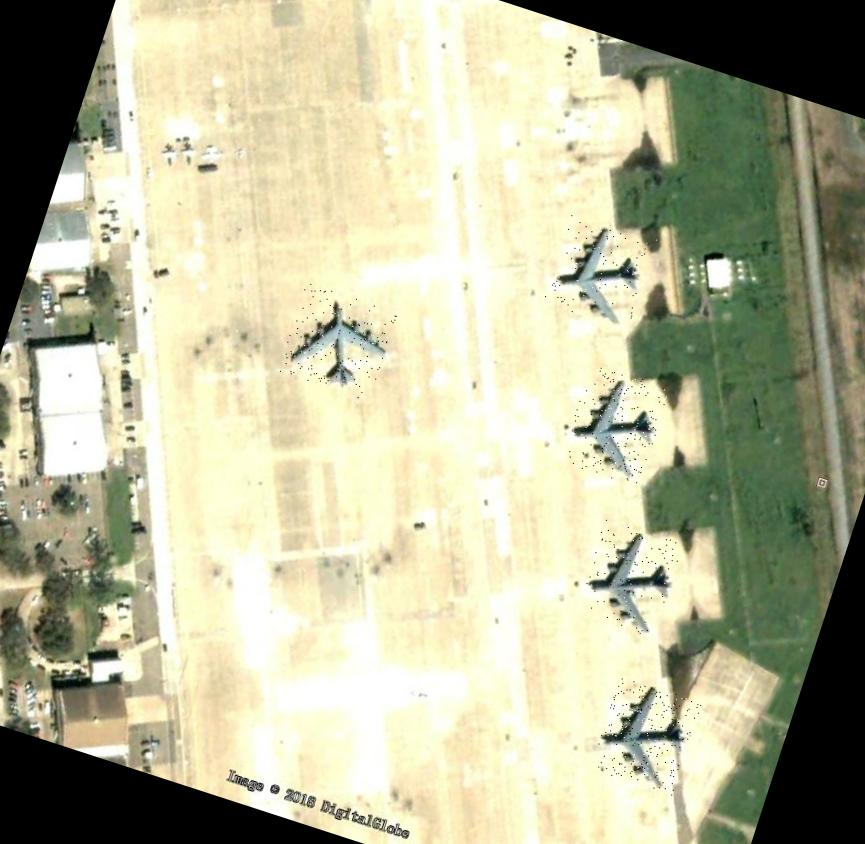A8: (277, 282, 398, 402), (542, 211, 658, 332), (559, 362, 670, 488), (574, 518, 686, 639), (590, 675, 702, 795)
